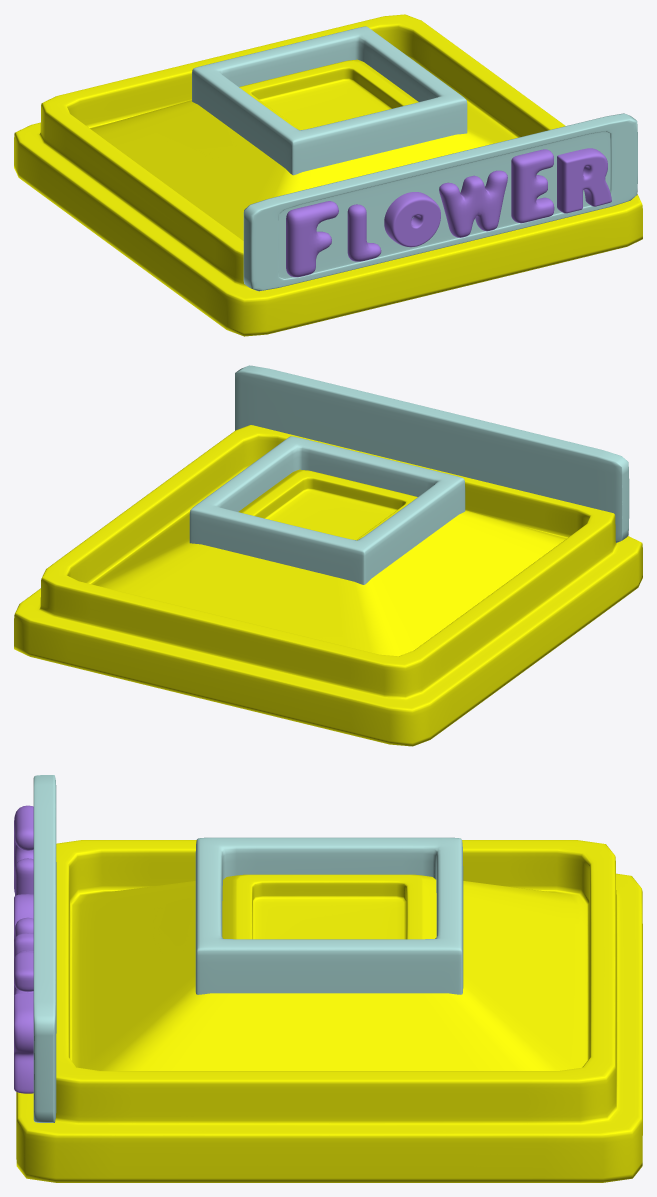
3 views of the same model, one above another, from view 1: azimuth 30°, elevation 25°; view 2: azimuth 150°, elevation 25°; view 3: azimuth 270°, elevation 25° (orthographic). The views are drawn at different scales.
Parts seen in each view (by area): view 1: polySurface1216; view 2: polySurface1216; view 3: polySurface1216.
Boxes of the visible parts, x1,y1,x2,y2 form: polySurface1216: (14,14,642,336); polySurface1216: (14,365,642,746); polySurface1216: (14,775,642,1182).
Size of the model in its own units: 1.1 by 0.3174 by 1.1.
